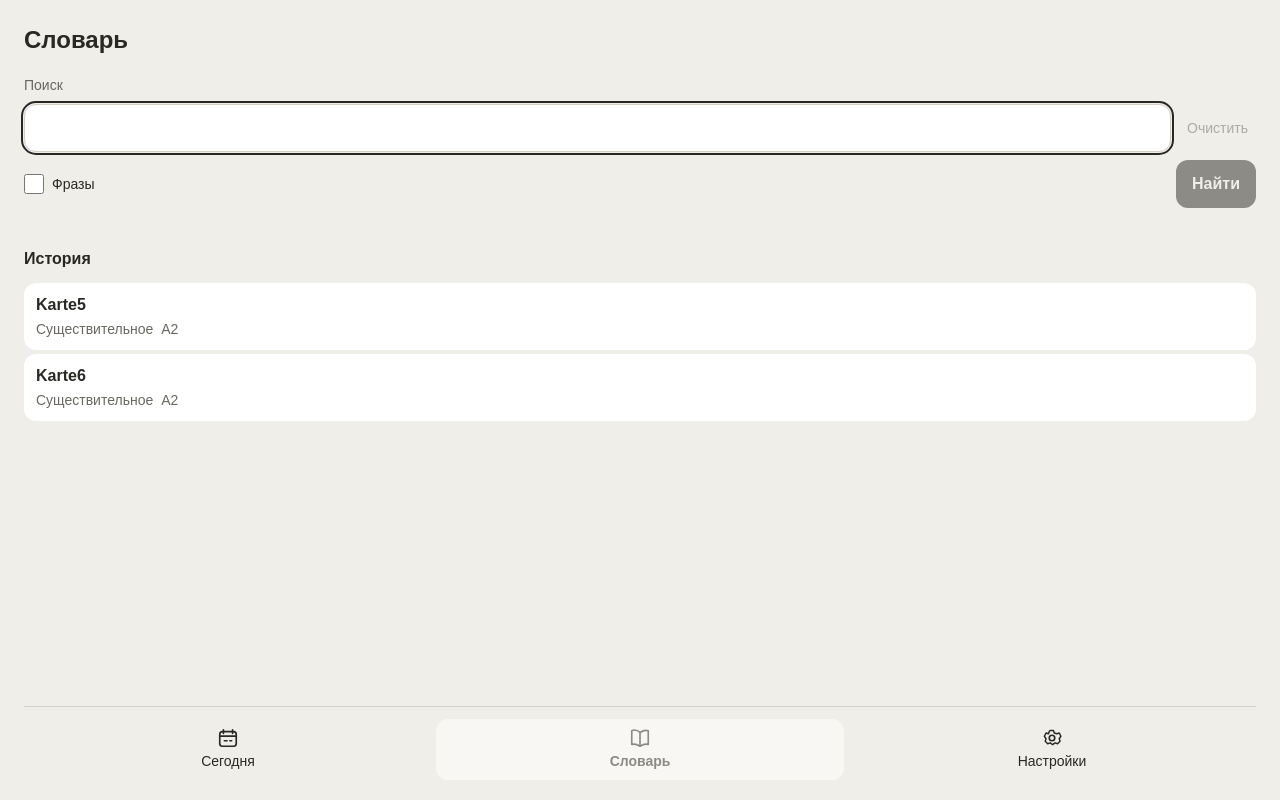
Test: DictionaryHost (М11) with real access, APIs, controllers and hooks › K07-091/RA 6.1.14: no ordinary match still shows the similar cards beside «Нет совпадений»
In the field labelled "Поиск": (598, 128) [24,104,1171,152], type "Hause"
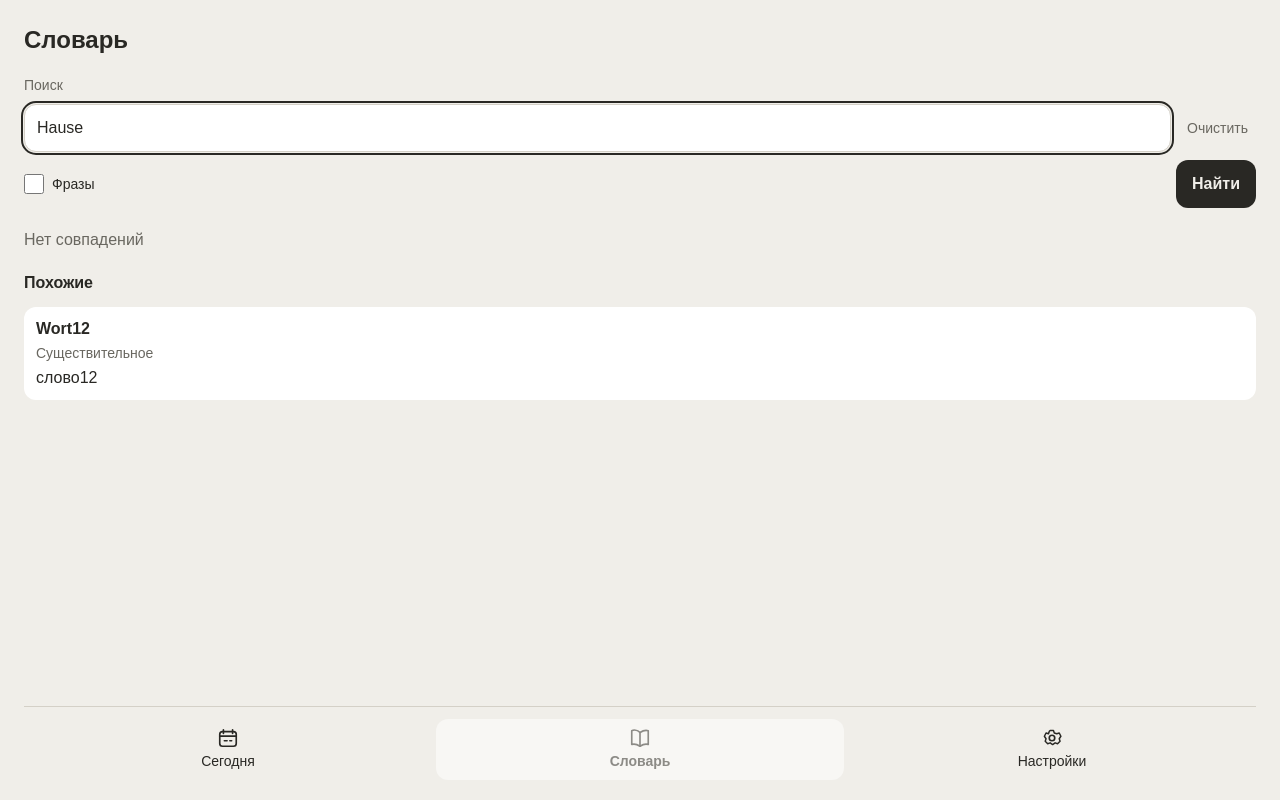
Check: the message reads "Нет совпадений", box [24,231,144,248]
